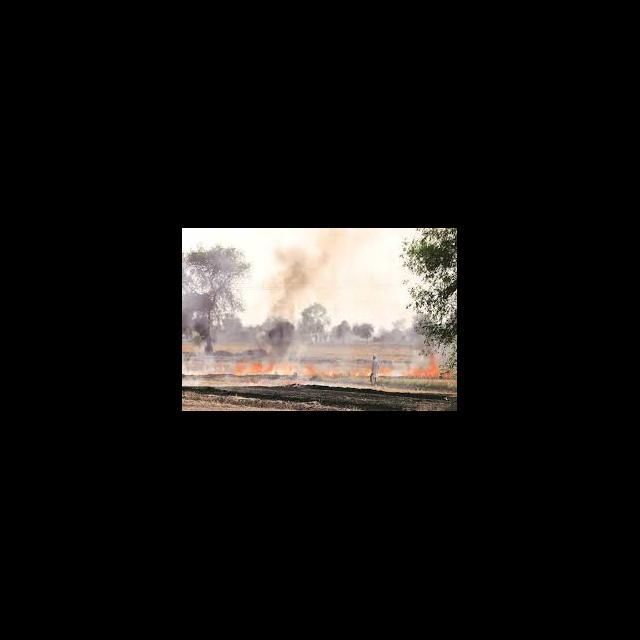Fire: (235, 358, 444, 380)
Smoke: (266, 230, 352, 318), (258, 320, 412, 354), (184, 354, 234, 388), (212, 316, 255, 350), (183, 268, 200, 327), (304, 381, 364, 388), (236, 380, 282, 388), (388, 365, 402, 378)
